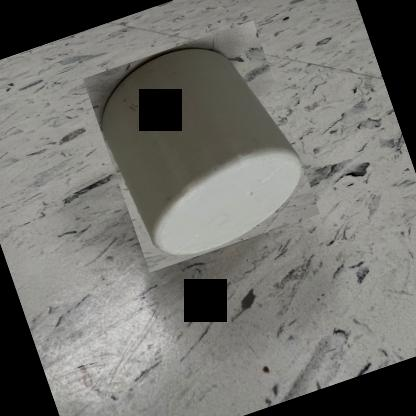white cylinder: (83, 20, 320, 272)
